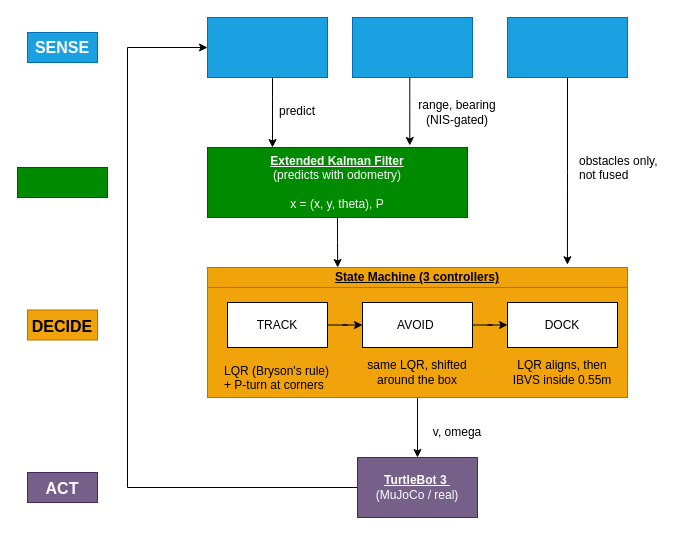
The diagram is 685 pixels wide and 535 high, and some of its shapes have lost their labels. The box of each missing label's shape, as (x1, y1, x2, y2) in pixels:
ESTIMATE: (16, 166, 108, 198)
LiDAR (360 range): (506, 16, 628, 78)
Pi camera (arUco ID, 1,2,0): (352, 16, 472, 78)
Wheel encoders (wheel speeds): (206, 16, 328, 78)
